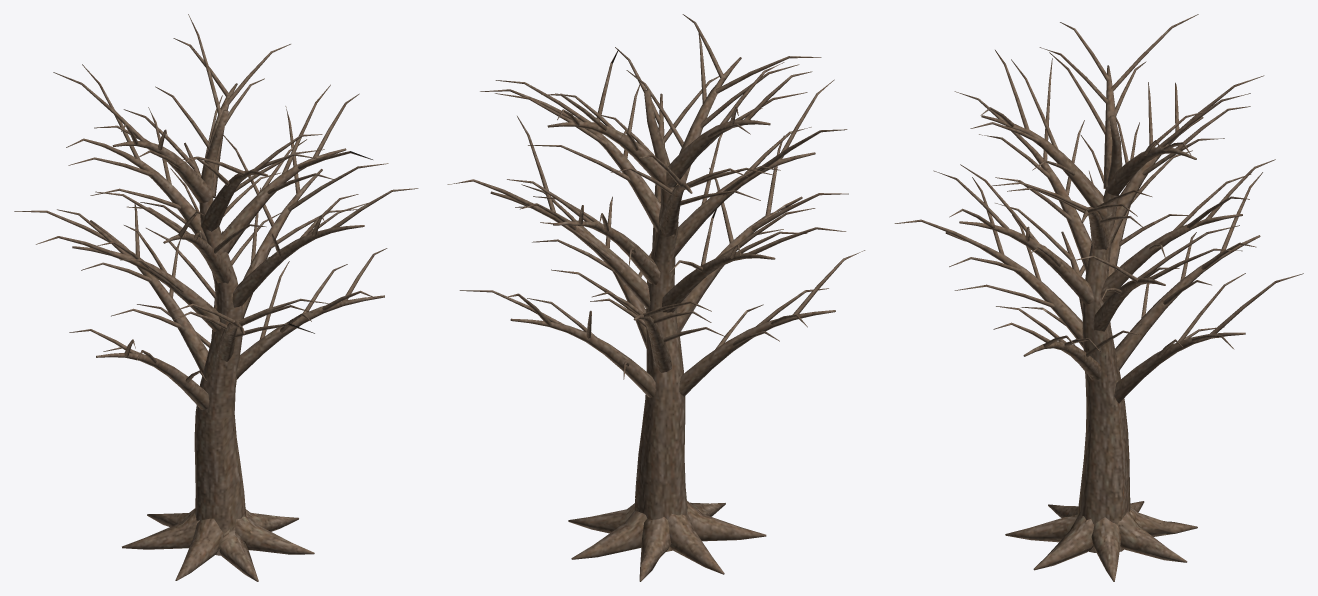
Rendered from trunk_1.fbx.
3 views of the same model, side by side, from view 1: azimuth 30°, elevation 25°; view 2: azimuth 150°, elevation 25°; view 3: azimuth 270°, elevation 25° (orthographic). The views are drawn at different scales.
Parts seen in each view (by area): view 1: trunk_1; view 2: trunk_1; view 3: trunk_1.
Boxes of the visible parts, box(x1,y1,x2,y2) form: trunk_1: box(14, 14, 418, 581); trunk_1: box(447, 14, 865, 581); trunk_1: box(894, 14, 1303, 581).
Size of what is drawn, in the model's own units: 4.11 by 5.49 by 4.32.
1 material, 1 textured.
